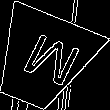M_SW: (8, 28, 76, 93)
